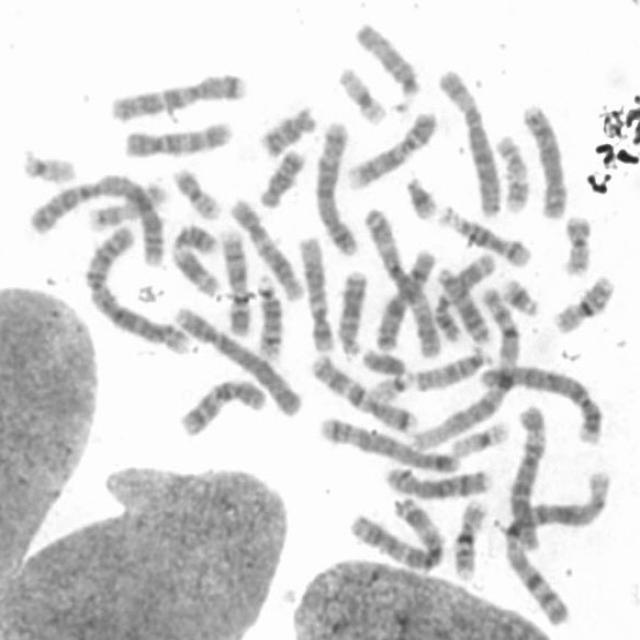A1: (408, 283, 522, 452), (498, 465, 614, 626)
A2: (80, 223, 192, 355), (22, 172, 169, 270)
A3: (360, 204, 441, 359), (344, 495, 446, 572)
B4: (171, 301, 304, 419), (479, 361, 604, 447)
B5: (316, 413, 460, 474), (312, 118, 360, 257)
C10: (175, 372, 268, 435), (121, 118, 234, 159)
C11: (432, 249, 498, 346), (168, 220, 221, 300)
C12: (227, 194, 304, 302), (295, 233, 335, 353)
C6: (434, 64, 502, 219), (505, 402, 548, 552)
C7: (308, 352, 418, 434), (104, 69, 248, 125)
C8: (519, 100, 570, 222), (380, 462, 493, 500)
C9: (344, 108, 439, 190), (216, 225, 252, 338)
D13: (434, 262, 491, 345), (331, 266, 370, 359)
D14: (434, 203, 534, 269), (252, 271, 284, 362)
D15: (352, 18, 422, 98), (410, 345, 493, 393)
E16: (549, 272, 617, 336), (448, 496, 489, 581)
E17: (83, 176, 169, 233), (492, 130, 531, 214)
E18: (255, 145, 307, 210), (256, 104, 317, 159)
F19: (334, 63, 388, 127), (446, 416, 512, 459)
F20: (167, 163, 222, 220), (558, 211, 595, 278)
G21: (402, 173, 439, 221), (500, 275, 540, 317)
G22: (18, 147, 78, 186), (368, 369, 416, 404)
X: (371, 246, 438, 354)
Y: (360, 345, 407, 377)
